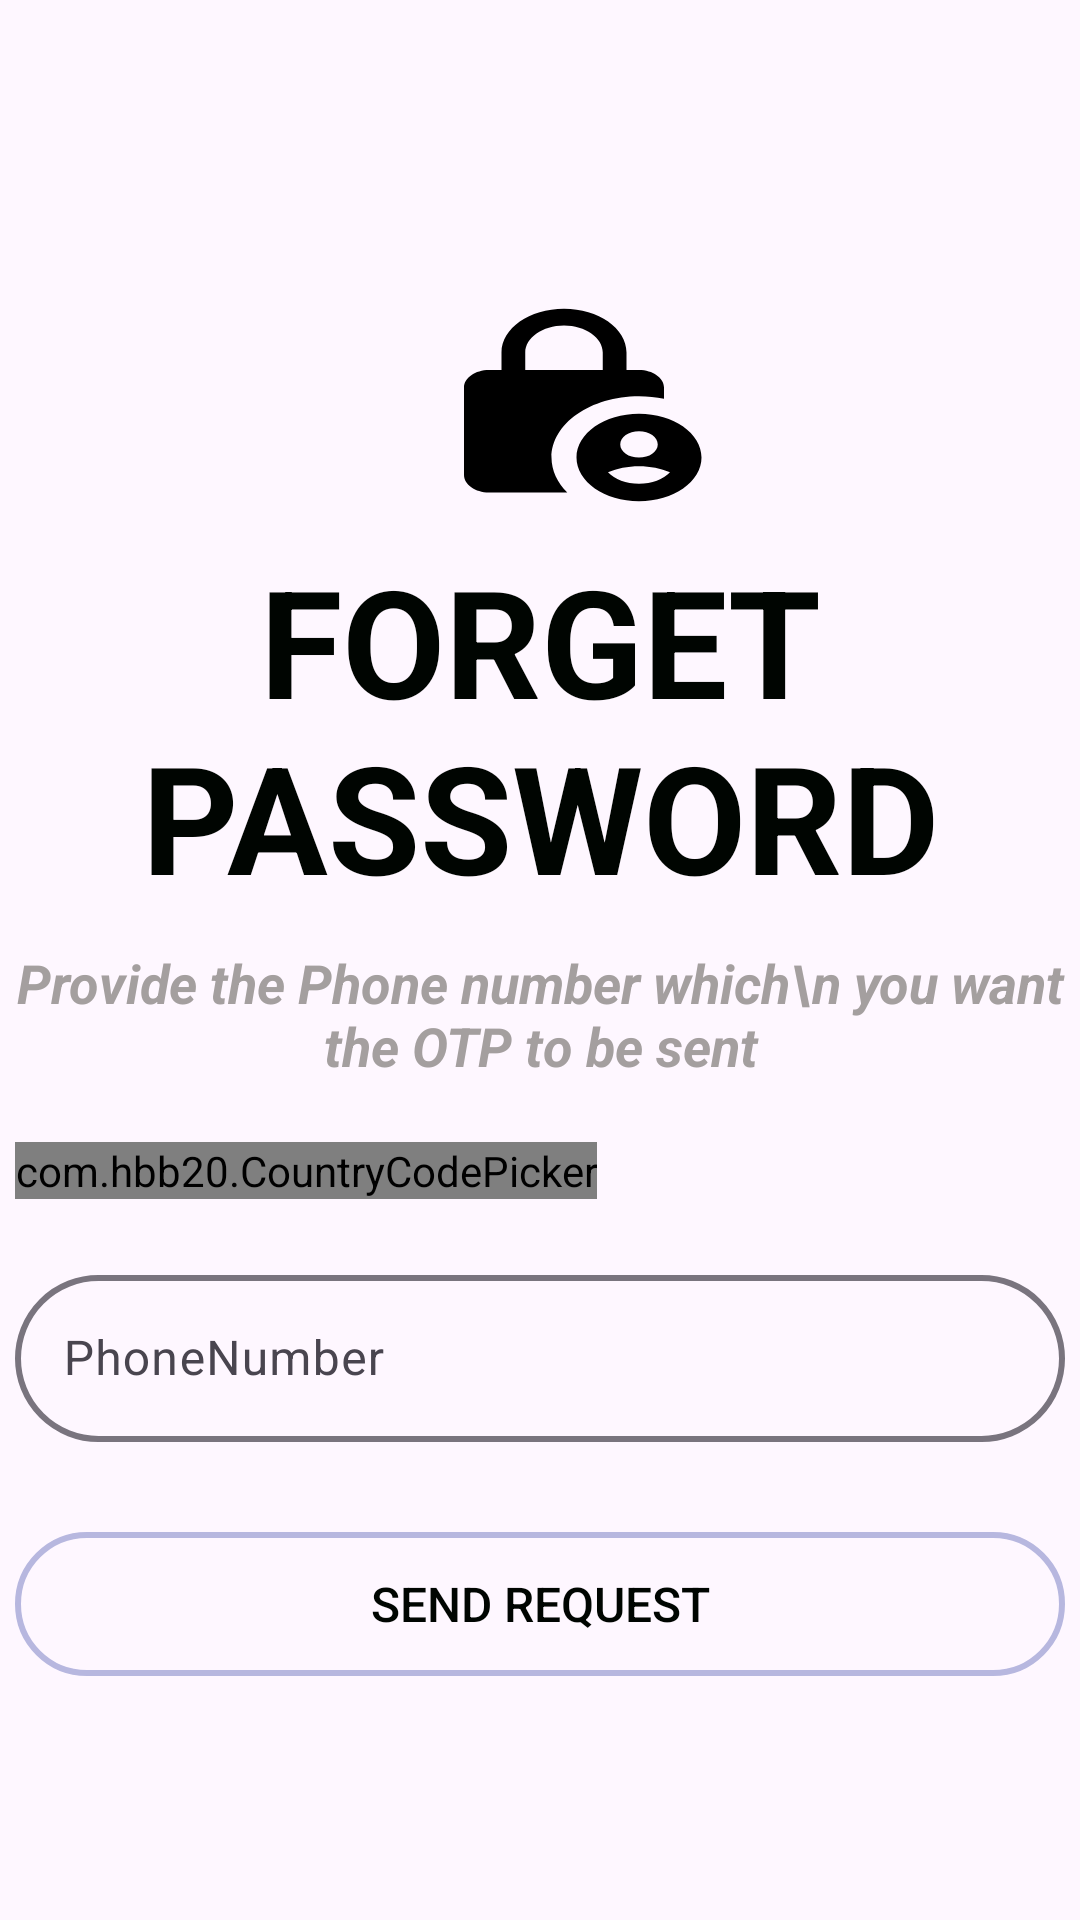

Point at icon controls on the screen. Image size 1080 × 1920, points as [x,y].
lock person: [583,405]
